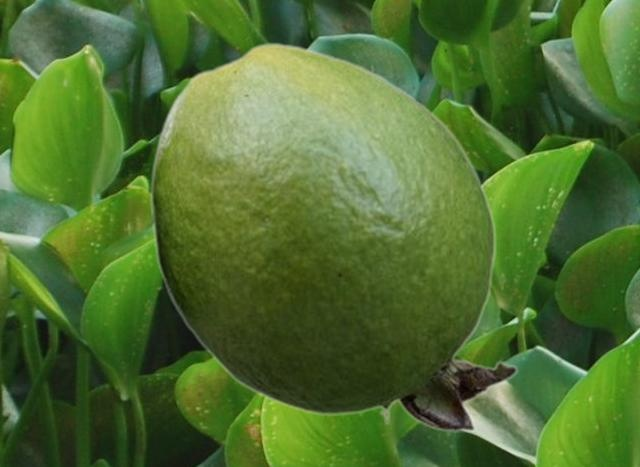guava: (149, 41, 518, 431)
